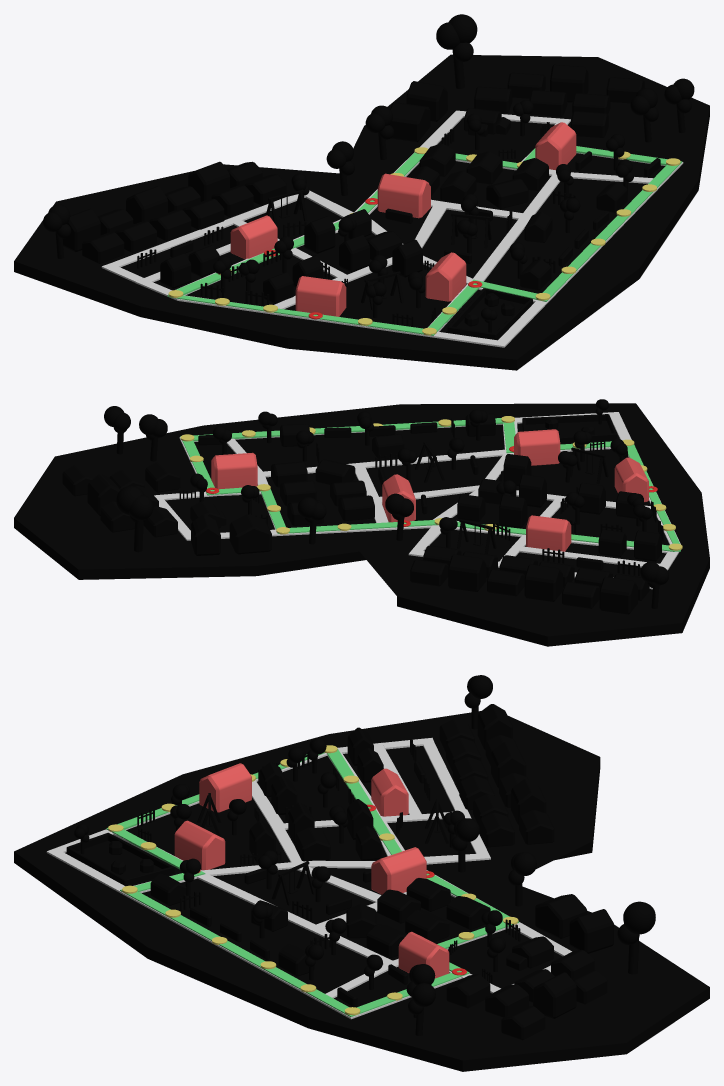
File: SM_Blockout_002.fbx
The picture shows the model from 3 angles, top to bottom: view 1: azimuth 30°, elevation 25°; view 2: azimuth 150°, elevation 25°; view 3: azimuth 270°, elevation 25°; orthographic projection. The views are drawn at different scales.
Visible parts, largest first — view 1: Blockout_Conbine; view 2: Blockout_Conbine; view 3: Blockout_Conbine.
Boxes of the visible parts, x1,y1,x2,y2 form: Blockout_Conbine: (14,14,709,370); Blockout_Conbine: (14,399,709,646); Blockout_Conbine: (14,675,709,1071).
Size of the model in its own units: 538 by 59.89 by 450.
